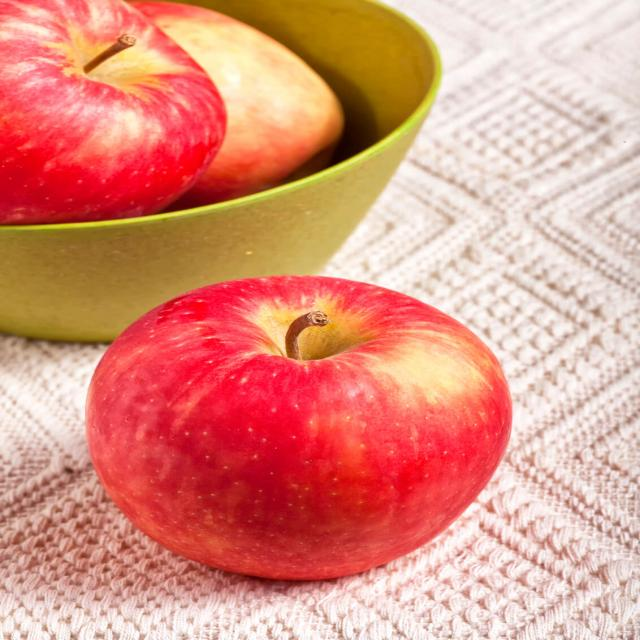apple: (88, 273, 522, 599), (0, 0, 212, 235)
